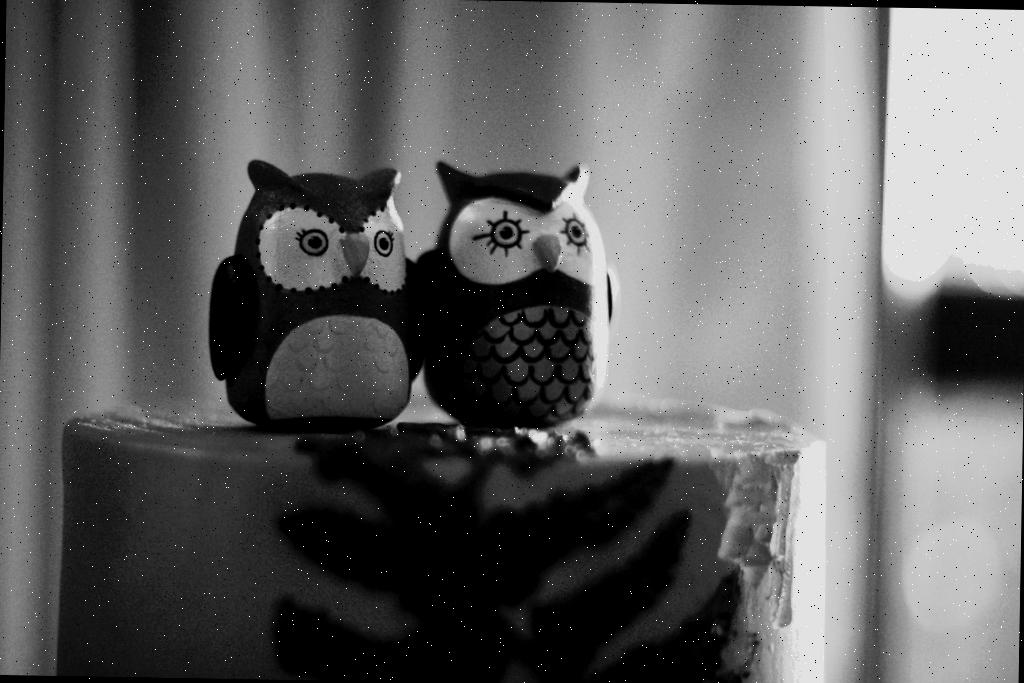Owl: (412, 133, 632, 441), (196, 154, 431, 426)
